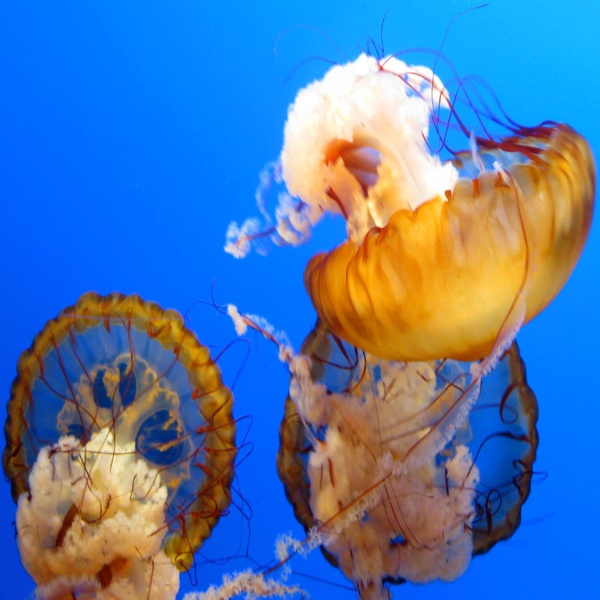Jellyfish: (220, 2, 599, 579), (183, 309, 557, 600), (0, 289, 250, 598)
